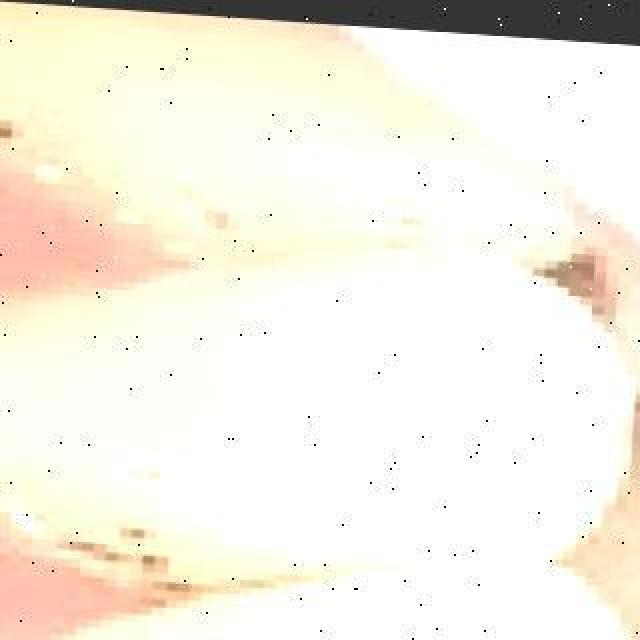stains: (24, 462, 214, 640)
